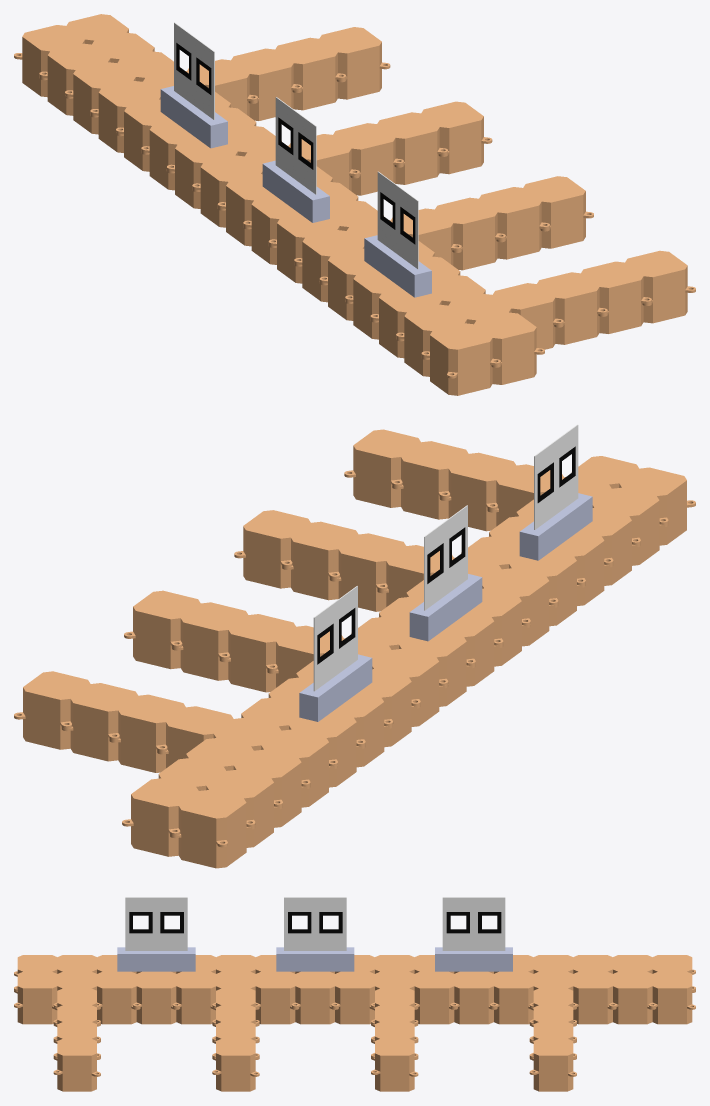
File: docking_station_n.glb
The picture shows the model from 3 angles, top to bottom: view 1: azimuth 30°, elevation 25°; view 2: azimuth 150°, elevation 25°; view 3: azimuth 270°, elevation 25°; orthographic projection. The views are drawn at different scales.
Visible parts, largest first — view 1: Part 5, Part 7, Part 6, Part 8; view 2: Part 5, Part 7, Part 6, Part 8; view 3: Part 5, Part 7, Part 6, Part 8.
Part boxes in pixels (bbox=[...]): Part 5: bbox=[14, 14, 695, 395]; Part 7: bbox=[174, 22, 418, 269]; Part 6: bbox=[160, 86, 431, 297]; Part 8: bbox=[176, 43, 415, 244]; Part 5: bbox=[14, 429, 695, 868]; Part 7: bbox=[313, 424, 578, 691]; Part 6: bbox=[299, 493, 592, 721]; Part 8: bbox=[317, 446, 575, 664]; Part 5: bbox=[14, 955, 695, 1091]; Part 7: bbox=[125, 897, 505, 950]; Part 6: bbox=[117, 947, 512, 971]; Part 8: bbox=[129, 912, 501, 933].
Bounding box in the file's own units: 3.14 × 1.51 × 8.73.
